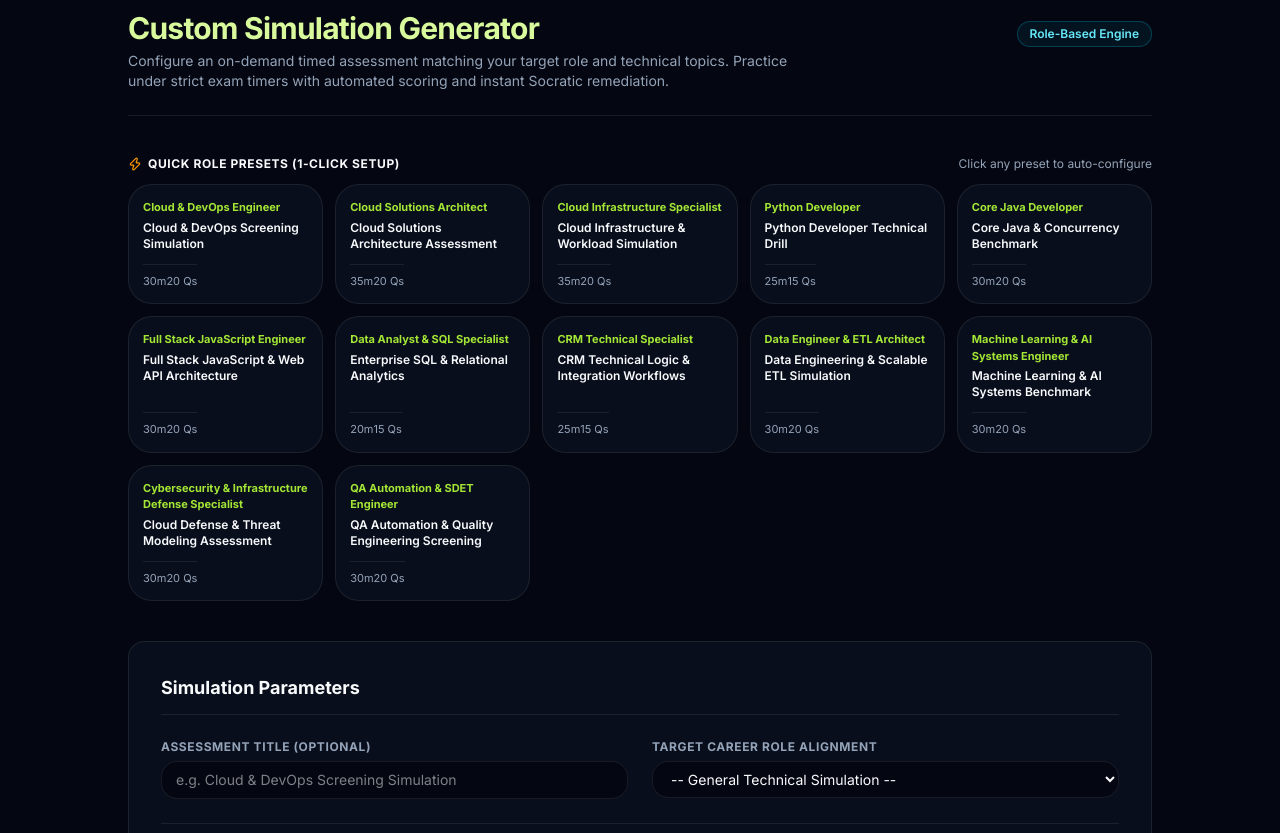
Scenario: CustomMockTestPage › applies a preset when clicked
Expected: the text "Python Developer" is shown, [765,200,861,214]
Click the button "Python Developer Python Developer Technical Drill 25m 15 Qs" at (847, 244), box [750,184,945,304]
(page scrolled)
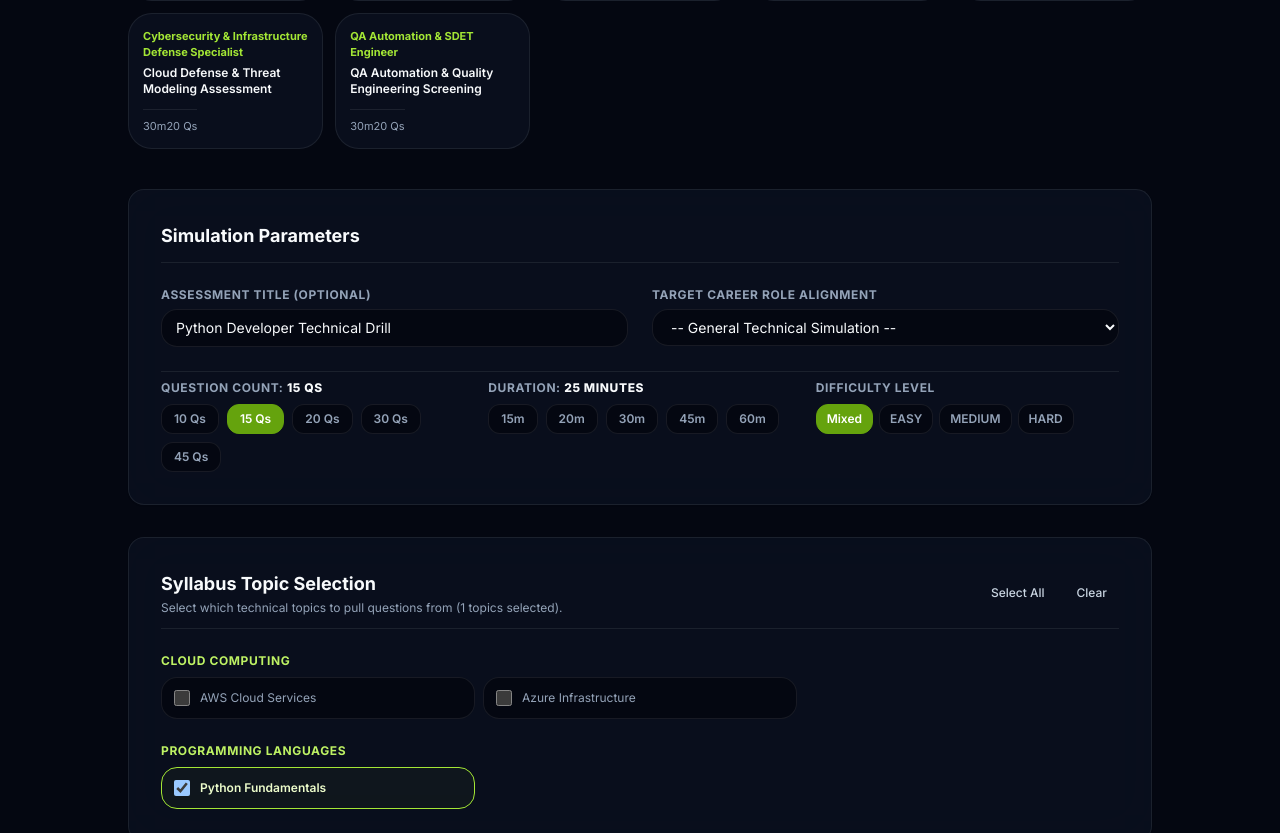
Expected: the text "25 Minutes" is shown, [564,380,644,395]
